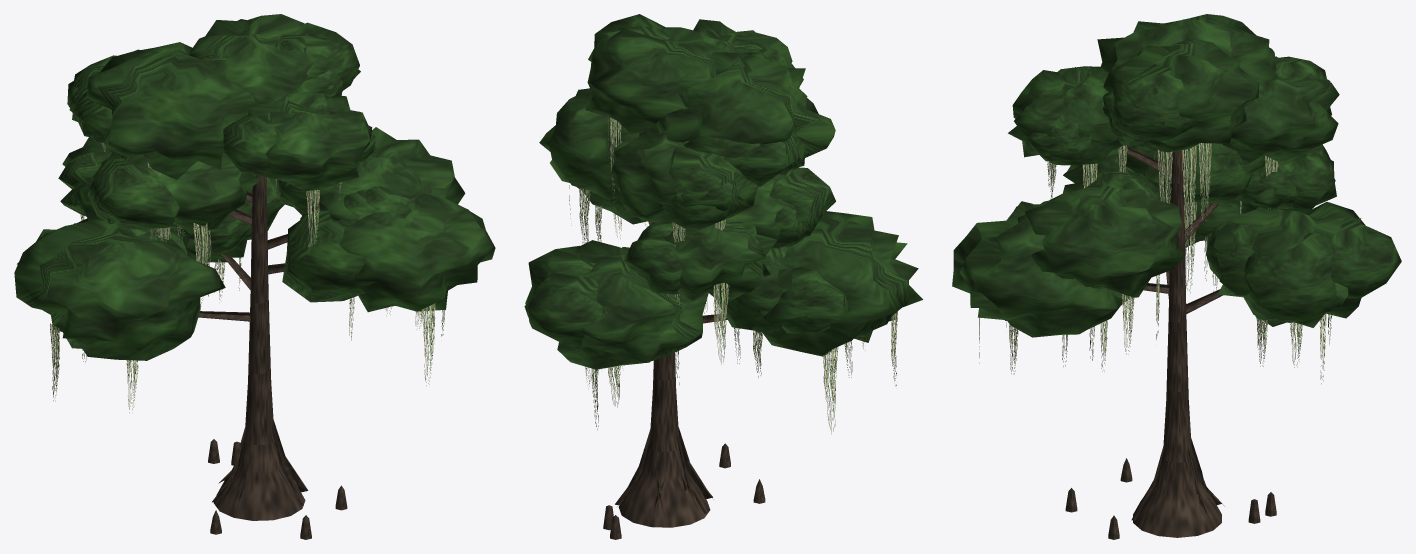
The model's file is cypress_1.glb.
3 views of the same model, side by side, from view 1: azimuth 30°, elevation 25°; view 2: azimuth 150°, elevation 25°; view 3: azimuth 270°, elevation 25° (orthographic).
Visible parts, largest first — view 1: cypress; view 2: cypress; view 3: cypress.
Boxes of the visible parts, x1,y1,x2,y2 form: cypress: [14, 14, 495, 539]; cypress: [524, 14, 922, 539]; cypress: [952, 14, 1401, 539].
Size of the model in its own units: 14.73 by 17.05 by 14.81.
Materials: 3 (3 with a texture image).
